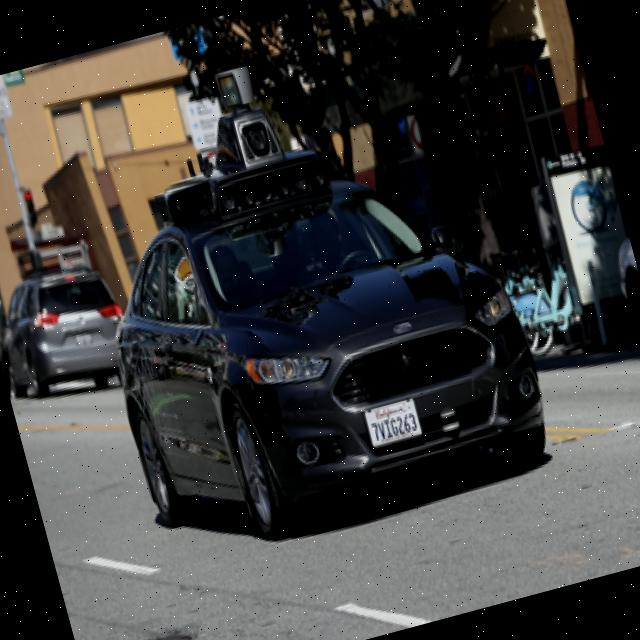Autre: (361, 397, 431, 453)
